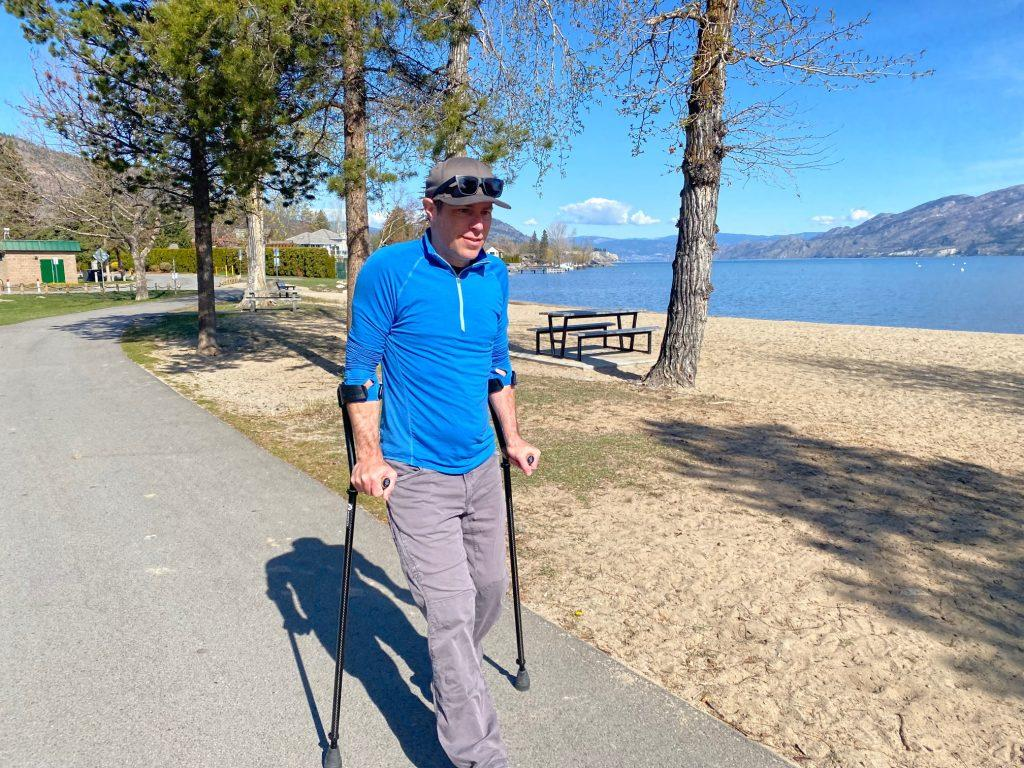crutches: (322, 155, 541, 768)
